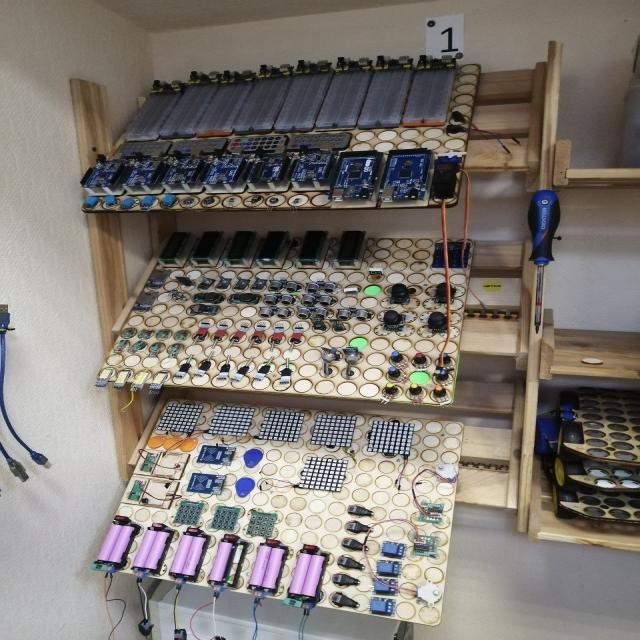Green-circles: (347, 333, 369, 353), (407, 366, 430, 385), (364, 280, 381, 300)
